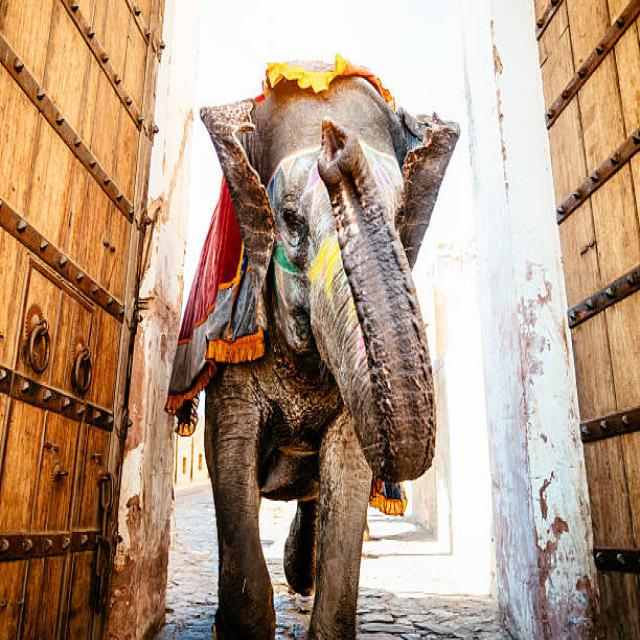Elephant: (191, 53, 452, 640)
